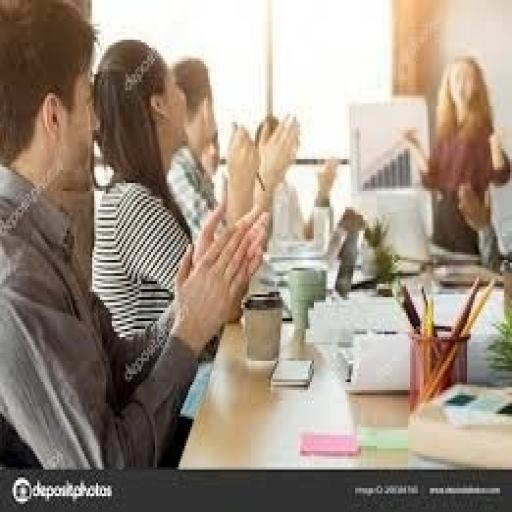clapping: (0, 0, 271, 470)
